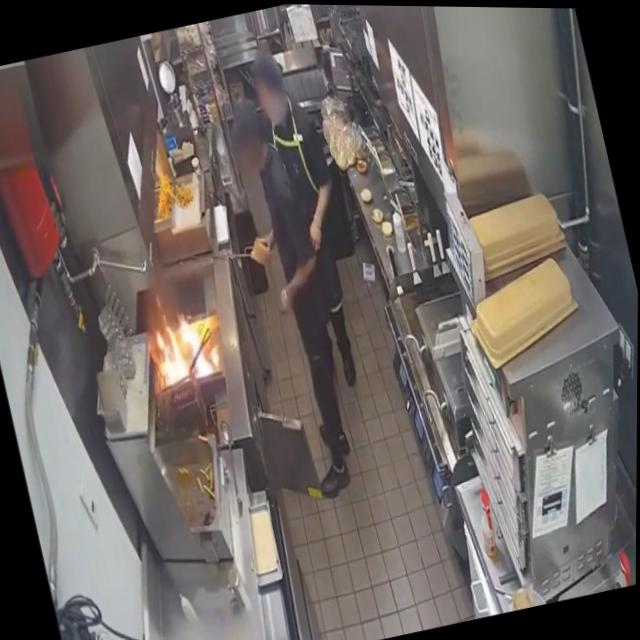fire: (140, 292, 221, 395)
